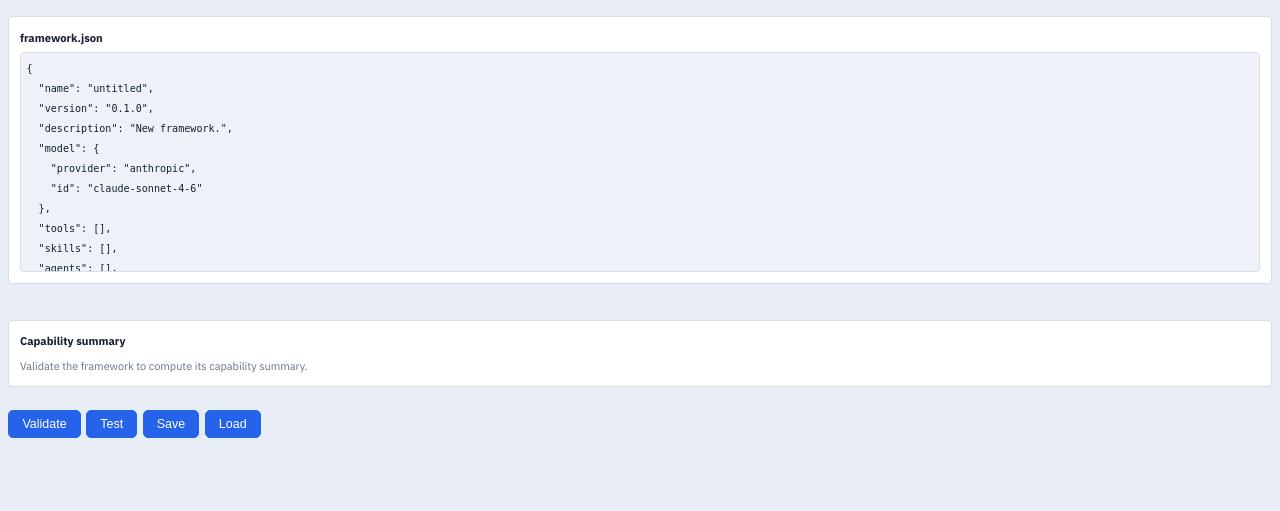
it: Inspector › a_failed_save_surfaces_the_error
The width and height of the screenshot is (1280, 511).
Click the button "Save": (171, 424) [143,410,199,438]
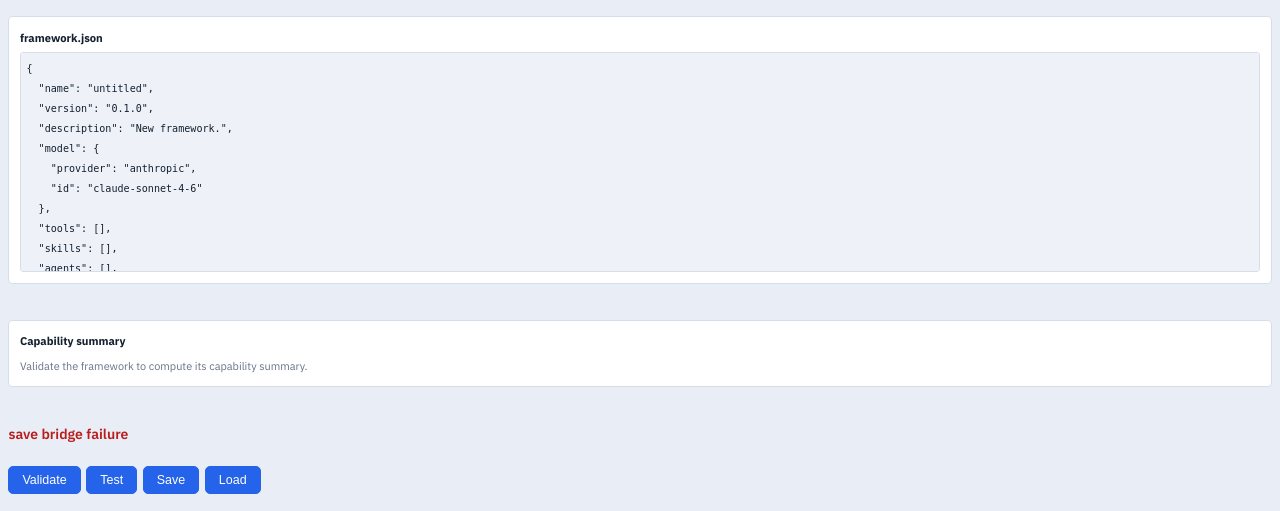
Check: the text "save bridge failure" is shown, box [8,424,128,442]
